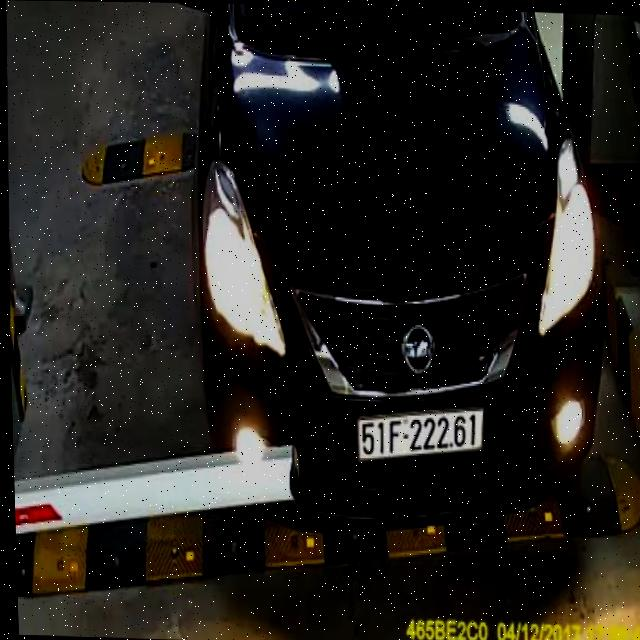car: (164, 2, 625, 541)
plate: (353, 403, 489, 470)
